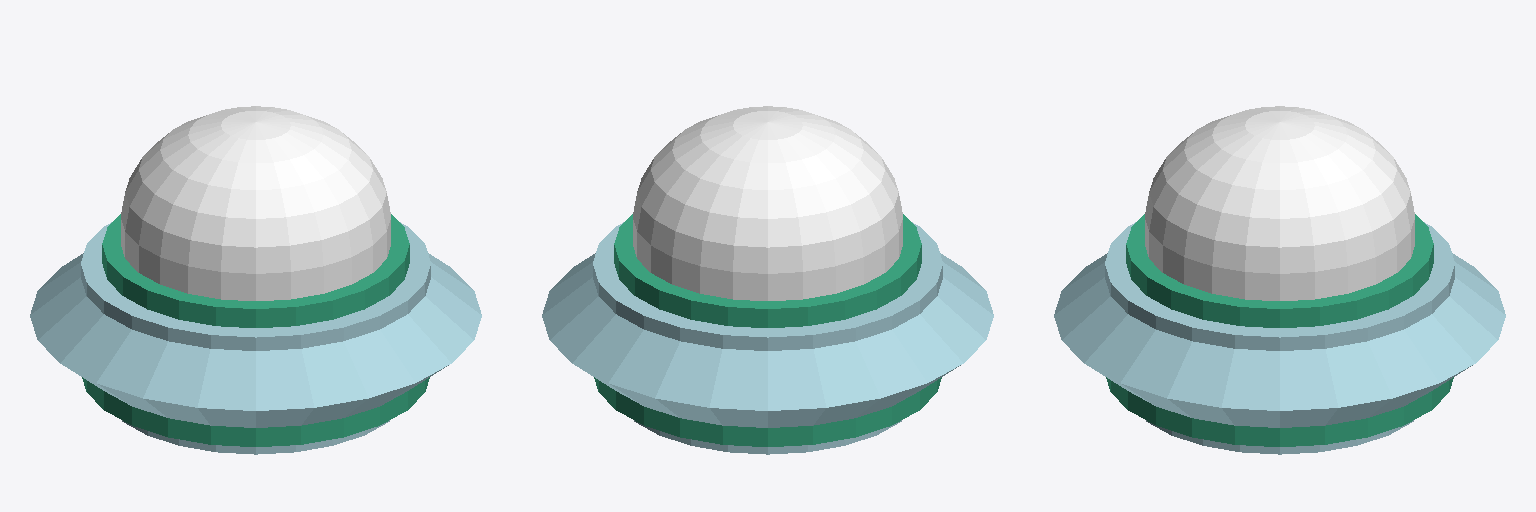
File: EnemyGreen.obj
The picture shows the model from 3 angles: view 1: azimuth 30°, elevation 25°; view 2: azimuth 150°, elevation 25°; view 3: azimuth 270°, elevation 25°; orthographic projection.
Parts seen in each view (by area): view 1: enemy_ufoGreen; view 2: enemy_ufoGreen; view 3: enemy_ufoGreen.
Part boxes in pixels (x1,y1,x2,y2): enemy_ufoGreen: (30, 106, 481, 454); enemy_ufoGreen: (542, 106, 993, 454); enemy_ufoGreen: (1054, 106, 1505, 454).
Bounding box in the file's own units: 1 × 0.6529 × 1.